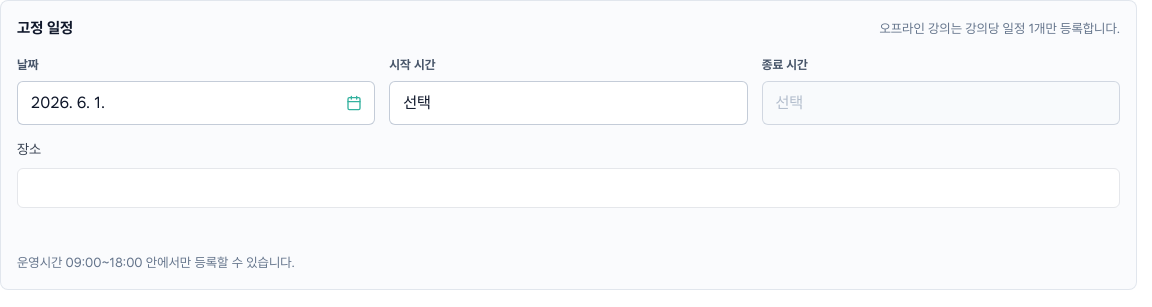
Test case: OfflineSchedulePlanner › keeps the selected start time while the end time is still empty
The width and height of the screenshot is (1152, 307).
Select "09:00" in the dropdown labelled "시작 시간" at point(568, 103), box [389,81,748,125]
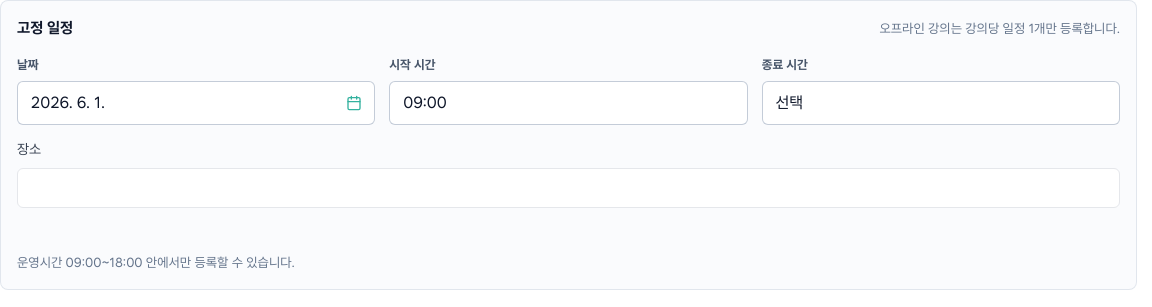
Check: the dropdown labelled "종료 시간" is enabled, box [762,81,1120,125]
